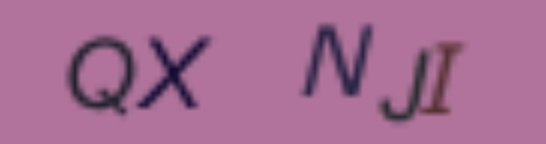I: (419, 40, 467, 118)
J: (376, 45, 431, 123)
N: (297, 20, 380, 99)
Q: (62, 34, 140, 115)
X: (136, 31, 216, 112)
